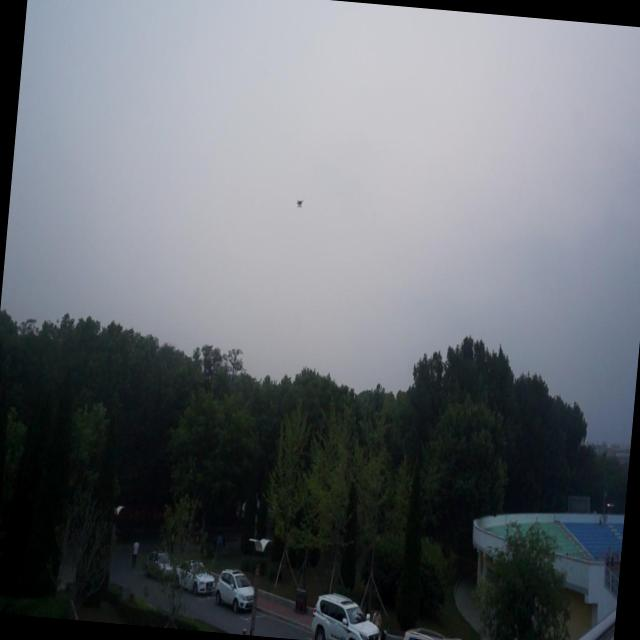drone: (291, 194, 305, 210)
